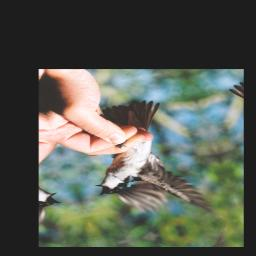Swallow: (64, 93, 227, 242)
